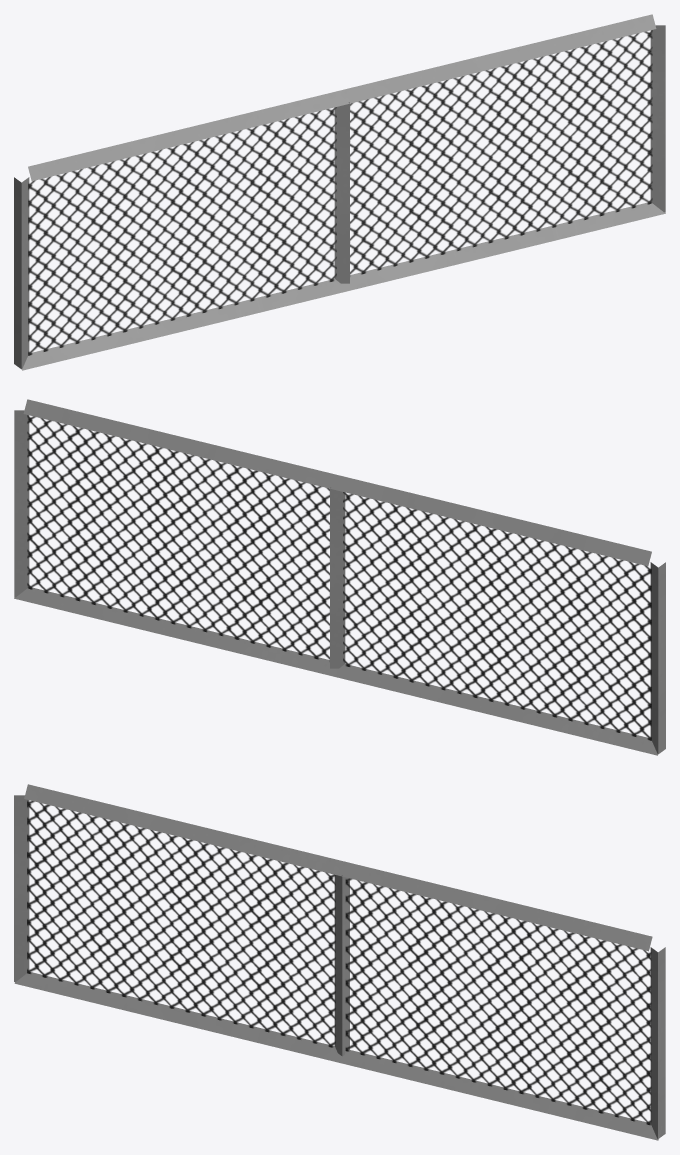
The model's file is fence-chainlink-gate-3m-noPost-cbj_LOD02.gltf.
3 renders of one model, top to bottom at view 1: azimuth 30°, elevation 25°; view 2: azimuth 150°, elevation 25°; view 3: azimuth 330°, elevation 25°, orthographic.
Visible parts, largest first — view 1: chainlink01; view 2: chainlink01; view 3: chainlink01.
Boxes of the visible parts, x1=… form: chainlink01: x1=14, y1=14, x2=665, y2=370; chainlink01: x1=14, y1=399, x2=665, y2=755; chainlink01: x1=14, y1=784, x2=665, y2=1140.
Size of what is drawn, in the model's own units: 3.4 by 1 by 0.0693.
